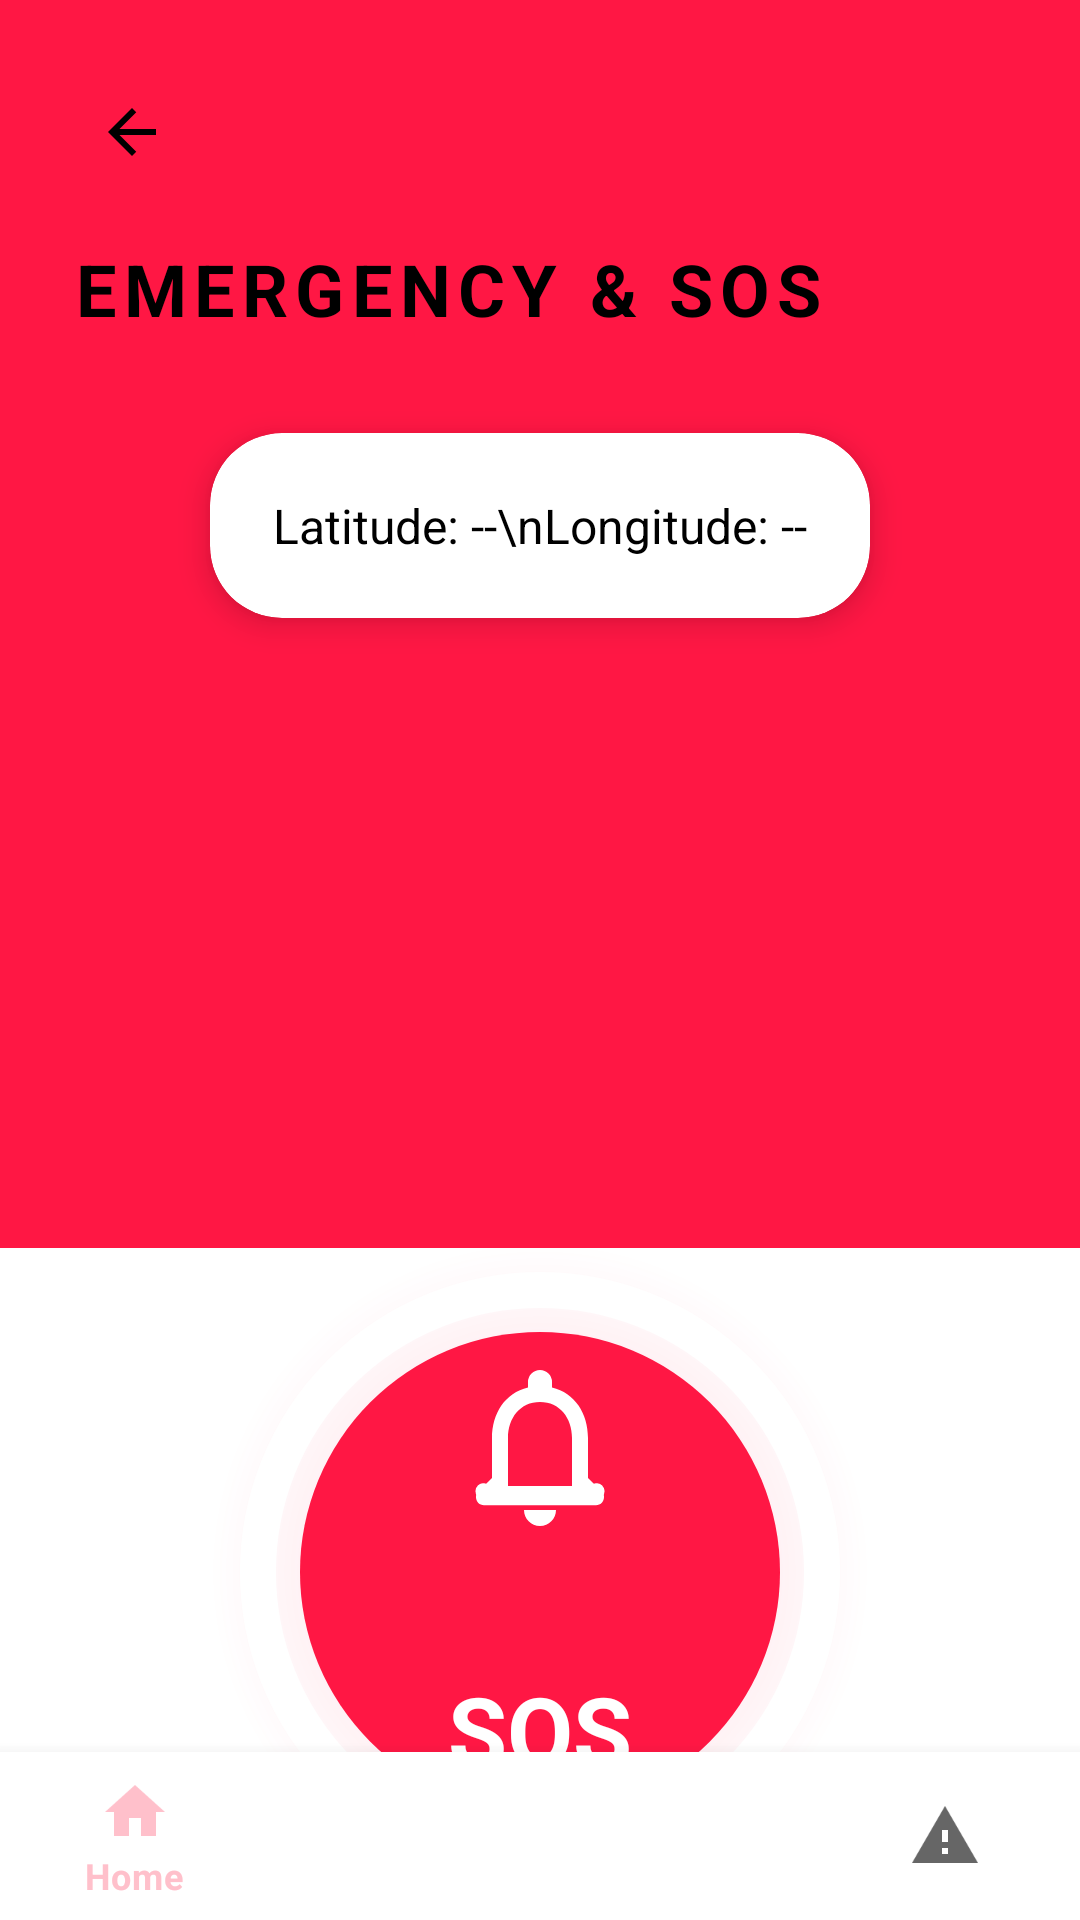

Named icons in this screenshot (1080 × 1920) and their bounding boxes, (x1, y1, x2, y2):
Back: (108, 108, 156, 156)
